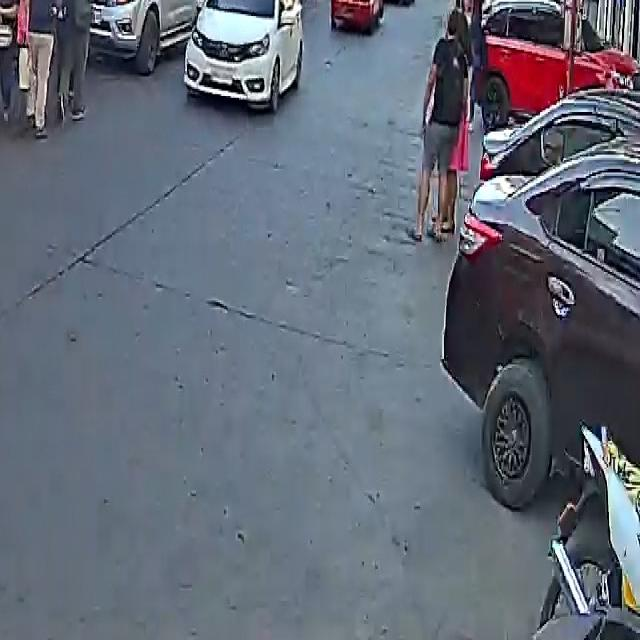car: (443, 86, 640, 516), (471, 0, 637, 132), (181, 0, 306, 114), (79, 0, 208, 75), (325, 0, 385, 32), (380, 0, 417, 2)
